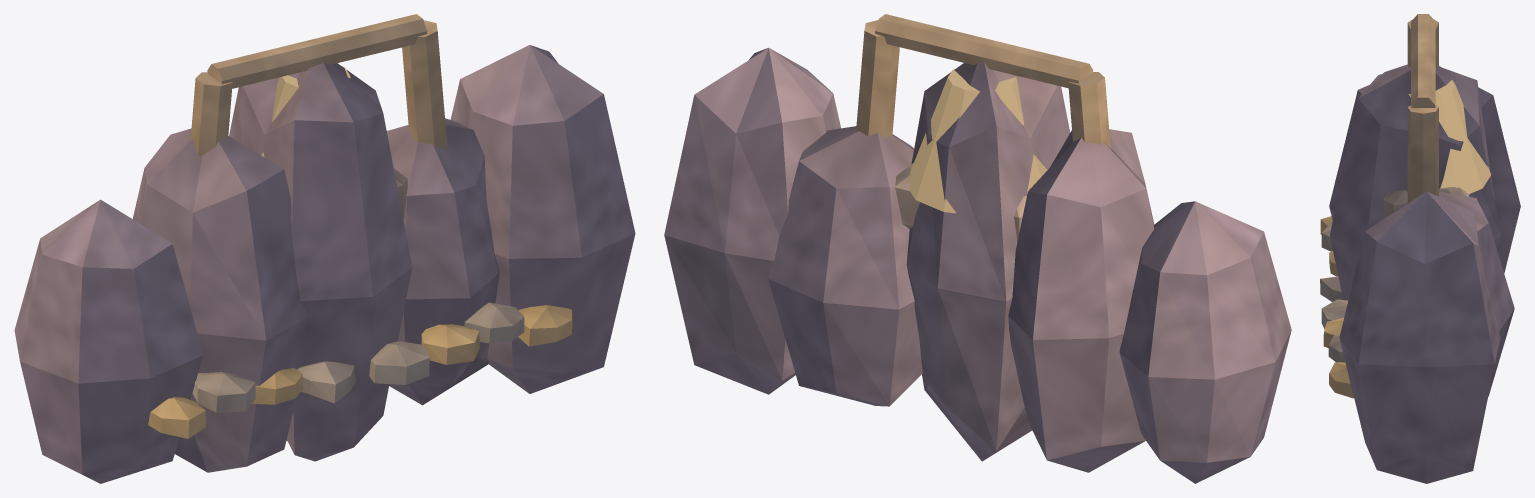
Rendered from dusk_wall_bell.glb.
3 renders of one model, left to right at view 1: azimuth 30°, elevation 25°; view 2: azimuth 150°, elevation 25°; view 3: azimuth 270°, elevation 25°, orthographic. The views are drawn at different scales.
Parts seen in each view (by area): view 1: Dämmergänge · Wand mit bell; view 2: Dämmergänge · Wand mit bell; view 3: Dämmergänge · Wand mit bell.
Boxes of the visible parts, box(x1,y1,x2,y2) form: Dämmergänge · Wand mit bell: box(14, 14, 635, 483); Dämmergänge · Wand mit bell: box(664, 14, 1291, 483); Dämmergänge · Wand mit bell: box(1320, 14, 1520, 483).
Bounding box in the file's own units: 2.44 × 1.69 × 0.8713.
Materials: 2 (1 with a texture image).
